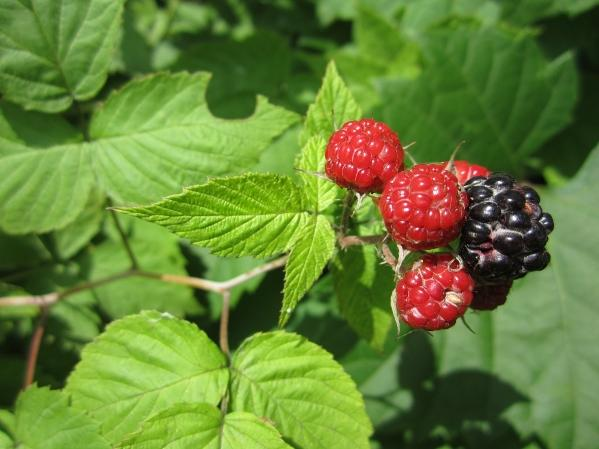Raspberry leaf: (106, 168, 311, 255)
